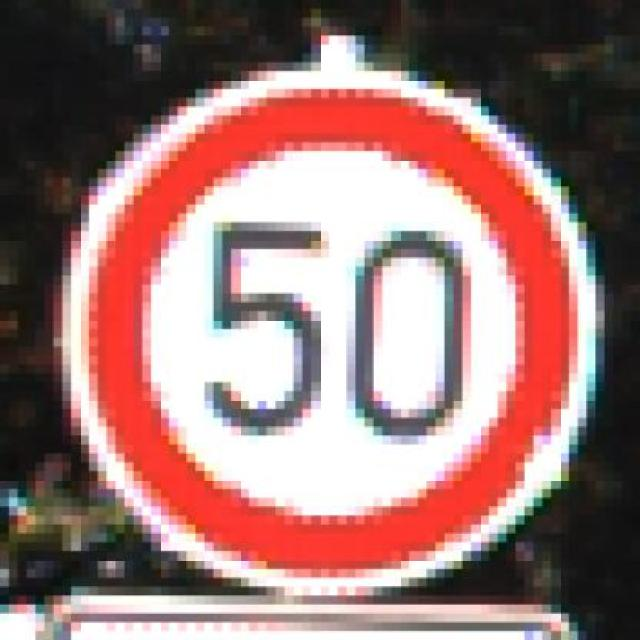50 mph speed limit: (62, 53, 613, 604)
